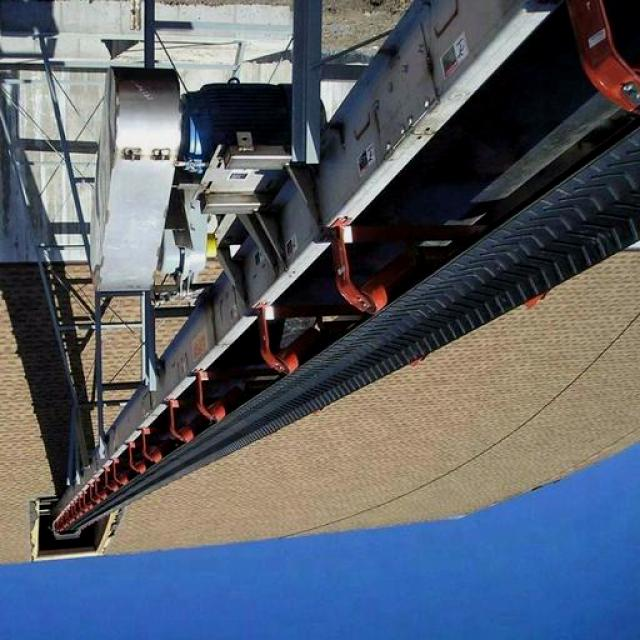conveyor: (70, 114, 640, 530)
